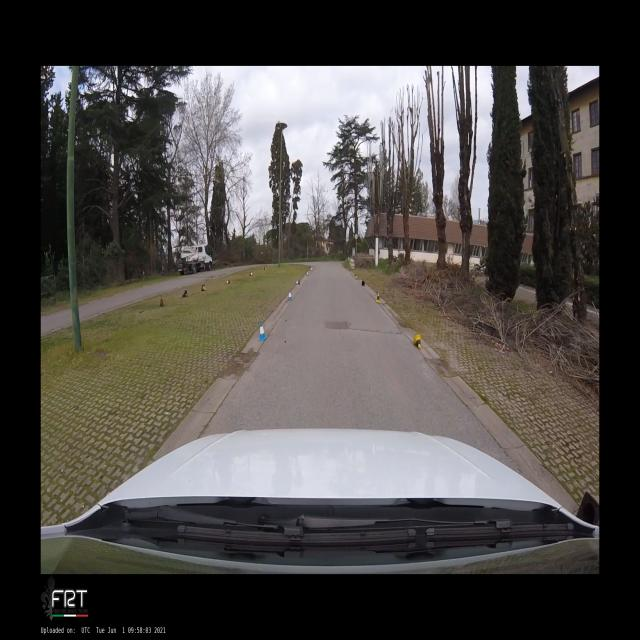blue_cone: (258, 322, 267, 340), (288, 290, 292, 300), (295, 280, 300, 284), (307, 272, 308, 276), (311, 267, 312, 271)
orange_cone: (226, 279, 230, 284), (249, 272, 253, 276), (264, 267, 267, 270)
unknown_cone: (576, 492, 599, 525), (159, 295, 165, 307), (181, 290, 188, 297), (201, 284, 207, 291), (362, 280, 364, 286)
yellow_cone: (413, 333, 422, 350), (375, 292, 380, 304), (354, 272, 356, 278), (349, 269, 351, 273)
